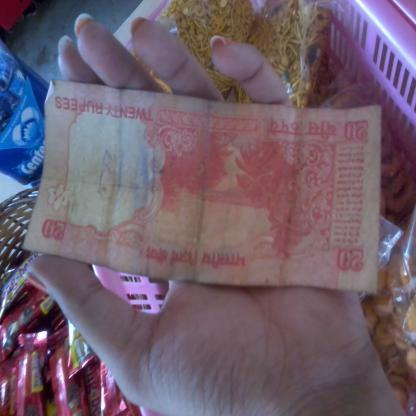Old20Back: (23, 79, 382, 292)
